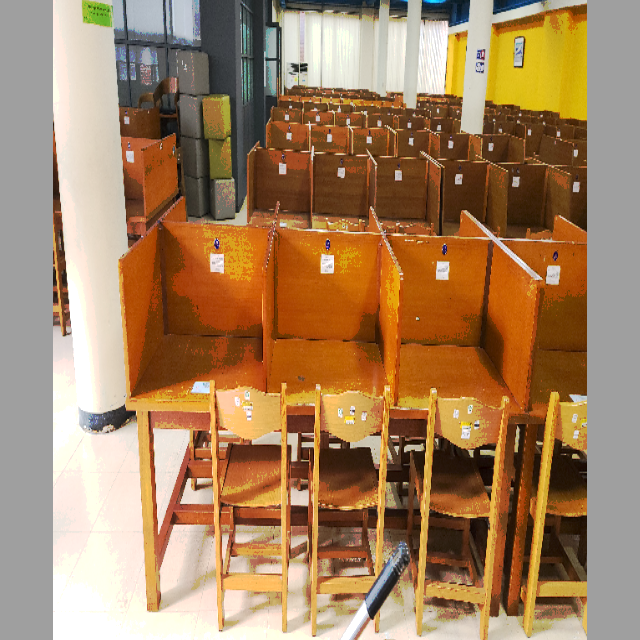empty: (119, 207, 265, 497), (270, 218, 403, 508), (411, 227, 529, 517)
